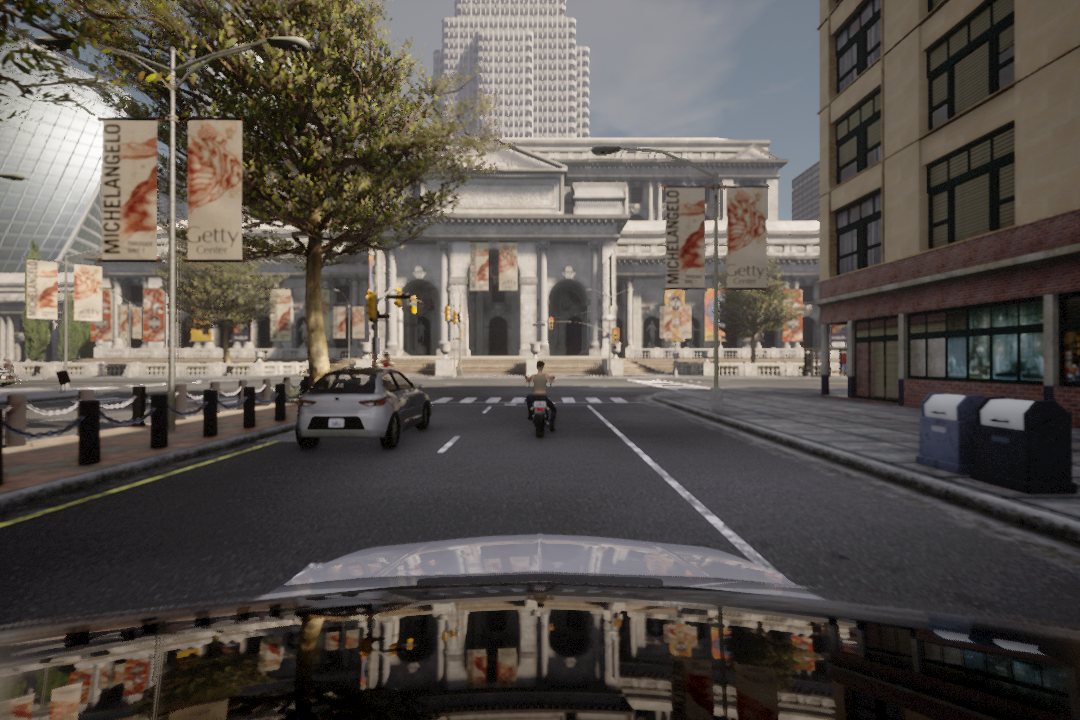walkside: (425, 389, 662, 411)
